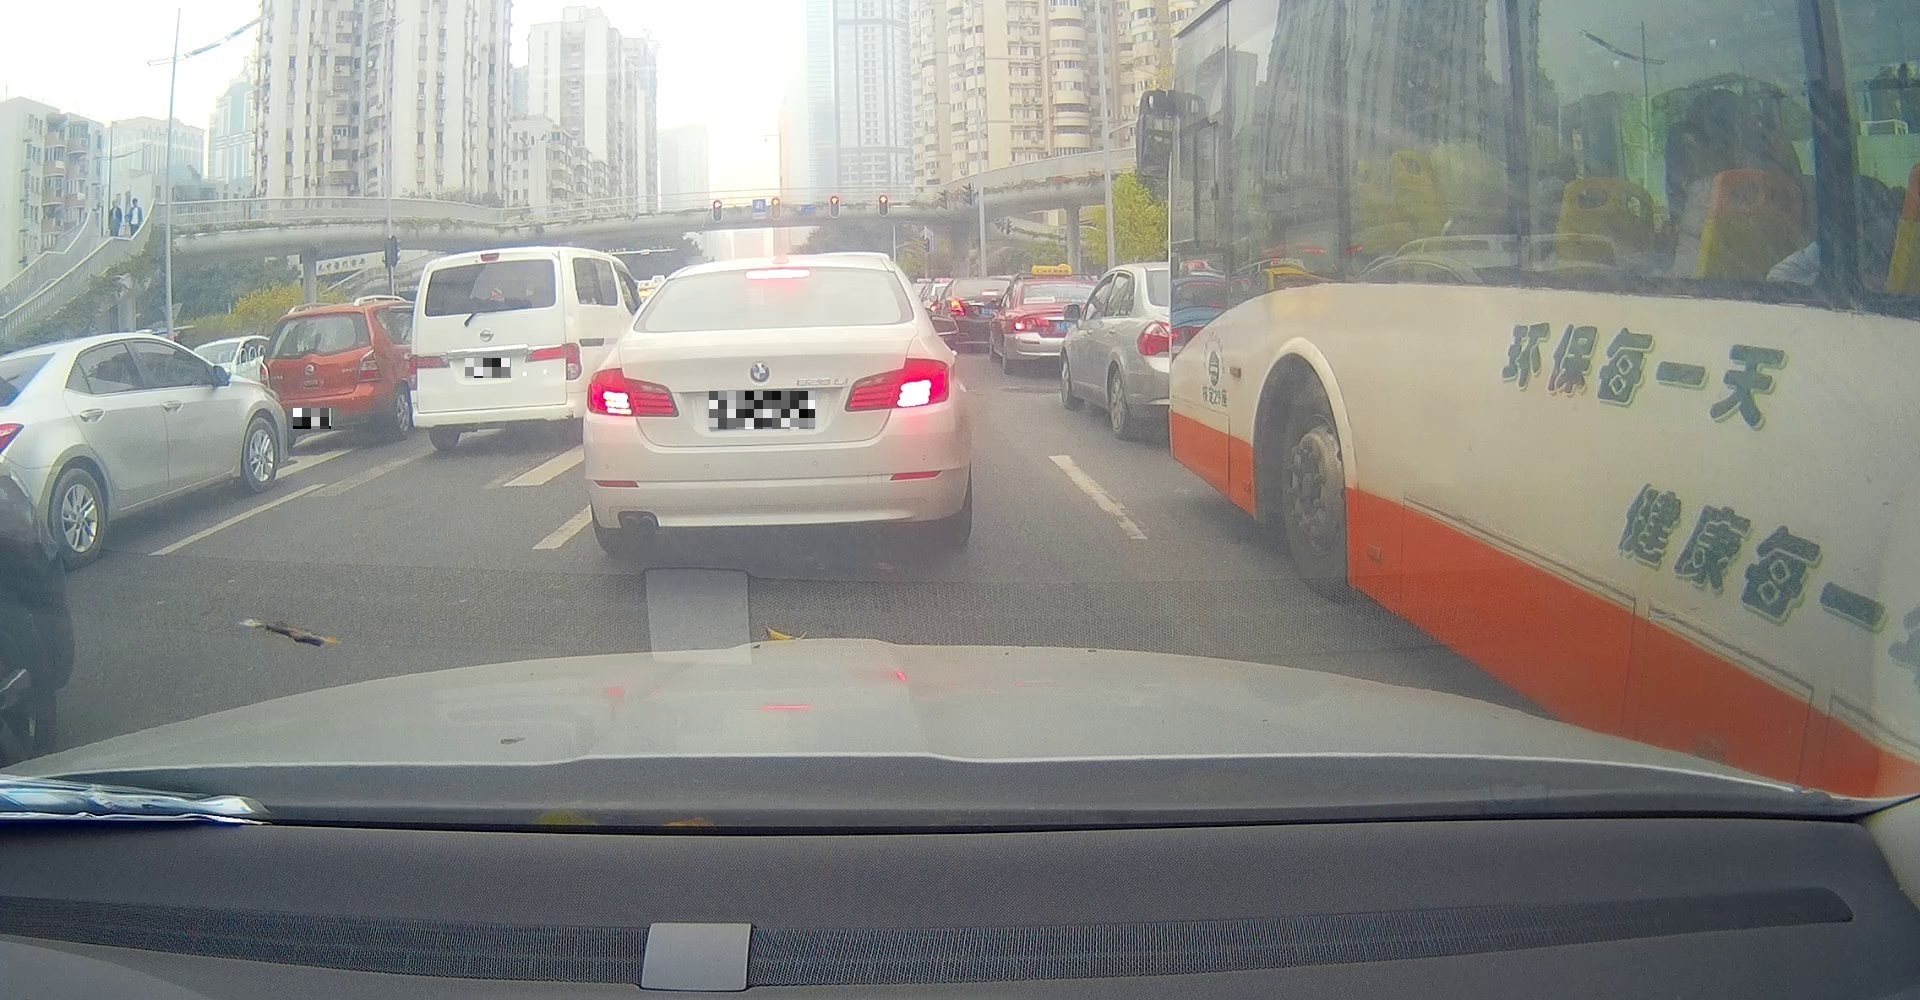L_light: (585, 368, 681, 418), (408, 355, 417, 390), (260, 363, 270, 390)
R_light: (843, 357, 949, 412), (357, 349, 382, 382), (566, 341, 582, 381)
T_light: (745, 270, 809, 279), (480, 253, 499, 261), (309, 313, 326, 319)
day-brake: (585, 255, 970, 555)
day-no: (408, 246, 584, 452), (259, 303, 390, 451)
plate_1: (293, 409, 331, 429)
plate_2: (465, 358, 510, 378)
plate_3: (709, 391, 815, 429)
